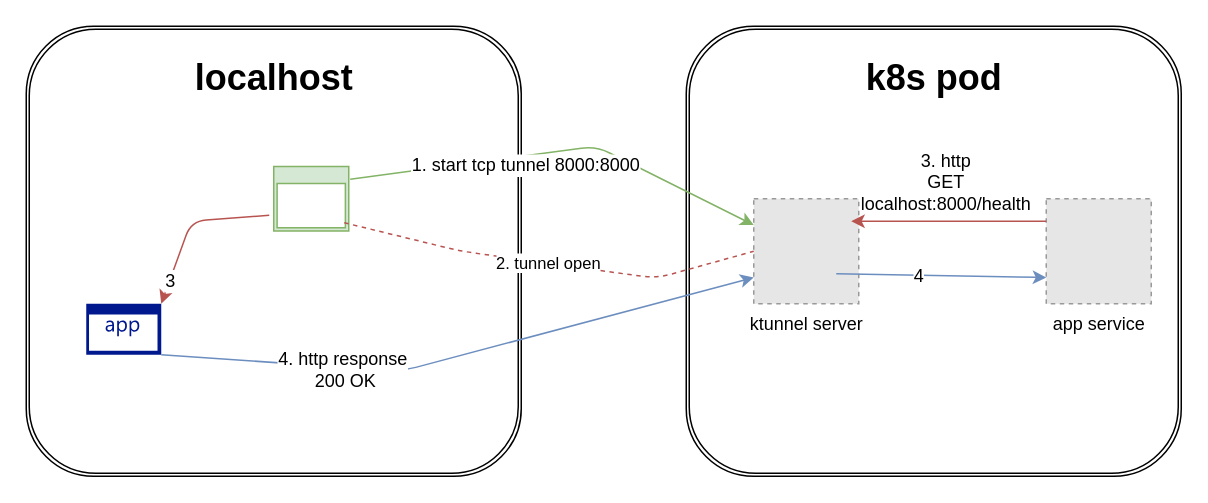
Image size: 1208x503. Some labels were removed from this diagram. Grey dashed boxes stand in for pictures. The box of each missing label's shape, as (x1, y1, x2, y2) in pixels:
ktunnel client: (272, 165, 349, 231)
webapp Listening on :8000: (86, 303, 160, 354)
